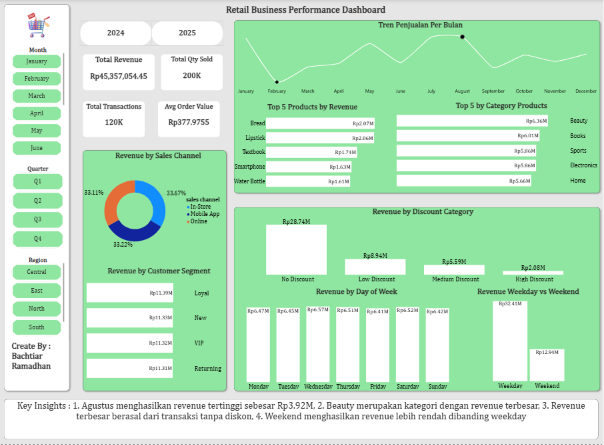

This screenshot's page, from the dashboard's own definition file:
{"tool":"powerbi","page":{"name":"Page 1","canvas":[5200,3800],"ordinal":0},"visuals":[{"type":"textbox","title":"Retail Business Performance Dashboard","box":[1231.1,45.9,2798.6,175.9],"z":0},{"type":"textbox","box":[53.5,45.9,558.2,3303.2],"z":1000},{"type":"advancedSlicerVisual","title":"Quarter","fields":{"Values":["retail_sales_clean.Quarter"]},"box":[107,1414.6,458.8,718.8],"z":2000},{"type":"advancedSlicerVisual","title":"Year","fields":{"Values":["retail_sales_clean.Year"]},"box":[672.9,183.5,1276.9,221.7],"z":3000},{"type":"advancedSlicerVisual","title":"Region","fields":{"Values":["retail_sales_clean.region"]},"box":[107,2194.5,458.8,688.2],"z":4000},{"type":"textbox","box":[2015,183.5,3127.4,1475.7],"z":5000},{"type":"lineChart","title":"Tren Penjualan Per-Tahun","fields":{"Category":["retail_sales_clean.Month_Name"],"Y":["Sum(retail_sales_clean.sales_amount)"]},"box":[2011,267.6,3127.4,558.2],"z":6000},{"type":"textbox","title":"Tren Penjualan Per Bulan","box":[2263.3,183.5,2691.5,107],"z":7000},{"type":"cardVisual","title":"Total Revenue","fields":{"Data":["Sum(retail_sales_clean.sales_amount)"]},"box":[726.4,474.1,611.7,305.9],"z":8000},{"type":"cardVisual","title":"Total Transactions","fields":{"Data":["retail_sales_clean.Total Transactions"]},"box":[726.4,871.7,527.6,305.9],"z":9000},{"type":"cardVisual","title":"Avg Order Value","fields":{"Data":["retail_sales_clean.Average Order Value"]},"box":[1368.7,871.7,527.6,305.9],"z":10000},{"type":"clusteredBarChart","title":"Revenue by Category Products","fields":{"Category":["retail_sales_clean.category"],"Y":["Sum(retail_sales_clean.sales_amount)"]},"box":[3402.6,925.2,1743.4,734.1],"z":11000},{"type":"textbox","title":"Top 5 by Category Products","box":[3647.3,871.7,1307.5,84.1],"z":12000},{"type":"clusteredBarChart","title":"Top 5 Products by Revenue","fields":{"Category":["retail_sales_clean.product_name"],"Y":["Sum(retail_sales_clean.sales_amount)"]},"box":[2011,948.1,1384,711.1],"z":13000},{"type":"textbox","title":"Top 5 Products by Revenue","box":[1674.6,879.3,2026.3,68.8],"z":14000},{"type":"textbox","box":[2015,1781.6,3127.4,1567.5],"z":15000},{"type":"clusteredColumnChart","title":"Revenue by Discount Level","fields":{"Category":["retail_sales_clean.Category_Discount"],"Y":["Sum(retail_sales_clean.sales_amount)"]},"box":[2018.6,1850.4,3112.1,565.8],"z":16000},{"type":"textbox","title":"Revenue by Discount Category ","box":[2790.9,1781.6,1674.6,130],"z":17000},{"type":"clusteredColumnChart","title":"Revenue Weekday vs Weekend","fields":{"Category":["retail_sales_clean.day_type"],"Y":["Sum(retail_sales_clean.sales_amount)"]},"box":[3937.9,2515.7,1192.8,818.2],"z":18000},{"type":"textbox","title":"Revenue Weekday vs Weekend","box":[3861.4,2462.1,1338.1,145.3],"z":19000},{"type":"clusteredColumnChart","title":"Revenue by Day of Week","fields":{"Category":["retail_sales_clean.Day_Name"],"Y":["Sum(retail_sales_clean.sales_amount)"]},"box":[2018.6,2553.9,1949.8,779.9],"z":20000},{"type":"textbox","title":"Revenue by Day of Week","box":[2263.3,2462.1,1598.1,145.3],"z":21000},{"type":"advancedSlicerVisual","title":"Month","fields":{"Values":["retail_sales_clean.Month_Name"]},"box":[107,405.3,458.8,948.1],"z":22000},{"type":"textbox","box":[726.4,1292.2,1223.4,2056.9],"z":23000},{"type":"donutChart","title":"Revenue by Customer Segment","fields":{"Category":["retail_sales_clean.sales_channel"],"Y":["Sum(retail_sales_clean.sales_amount)"]},"box":[726.4,1418.6,1222.1,777.7],"z":24000},{"type":"textbox","title":"Revenue by Sales Channel","box":[726.4,1299.9,1284.6,221.7],"z":25000},{"type":"textbox","title":"Revenue by Customer Segment","box":[734.9,2280,1281.9,162.4],"z":26000},{"type":"clusteredBarChart","title":"Revenue by Day of Week","fields":{"Category":["retail_sales_clean.customer_segment"],"Y":["Sum(retail_sales_clean.sales_amount)"]},"box":[754,2324.5,1162.2,1009.3],"z":27000},{"type":"cardVisual","title":"Total Revenue","fields":{"Data":["Sum(retail_sales_clean.discount_pct)"]},"box":[107,61.2,382.3,321.1],"z":28000},{"type":"cardVisual","title":"Total Qty Sold","fields":{"Data":["retail_sales_clean.Total Qty Sold"]},"box":[1391.6,474.1,527.6,305.9],"z":28001},{"type":"textbox","title":"Key Insights  : 1. Agustus menghasilkan revenue tertinggi sebesar Rp3.92M, 2. Beauty merupakan kategori dengan revenue terbesar, 3. Revenue terbesar berasal dari transaksi tanpa diskon, 4. Weekend men","box":[52.6,3420.6,5078.3,342.1],"z":28002},{"type":"textbox","title":"Create By : Bachtiar Ramadhan","box":[111.1,2922.7,495.7,410.2],"z":28003}]}

Visuals, with their boxes in screenshot pixels (x1, y1, x2, y2), scaled from the page's 5200x3800 canvas onto the 604x445 screenshot:
"Retail Business Performance Dashboard" textbox: 143/5/468/26
textbox: 6/5/71/392
"Quarter" advancedSlicerVisual: 12/166/66/250
"Year" advancedSlicerVisual: 78/21/226/47
"Region" advancedSlicerVisual: 12/257/66/338
textbox: 234/21/597/194
"Tren Penjualan Per-Tahun" lineChart: 234/31/597/97
"Tren Penjualan Per Bulan" textbox: 263/21/576/34
"Total Revenue" cardVisual: 84/56/155/91
"Total Transactions" cardVisual: 84/102/146/138
"Avg Order Value" cardVisual: 159/102/220/138
"Revenue by Category Products" clusteredBarChart: 395/108/598/194
"Top 5 by Category Products" textbox: 424/102/576/112
"Top 5 Products by Revenue" clusteredBarChart: 234/111/394/194
"Top 5 Products by Revenue" textbox: 195/103/430/111
textbox: 234/209/597/392
"Revenue by Discount Level" clusteredColumnChart: 234/217/596/283
"Revenue by Discount Category " textbox: 324/209/519/224
"Revenue Weekday vs Weekend" clusteredColumnChart: 457/295/596/390
"Revenue Weekday vs Weekend" textbox: 449/288/603/305
"Revenue by Day of Week" clusteredColumnChart: 234/299/461/390
"Revenue by Day of Week" textbox: 263/288/449/305
"Month" advancedSlicerVisual: 12/47/66/158
textbox: 84/151/226/392
"Revenue by Customer Segment" donutChart: 84/166/226/257
"Revenue by Sales Channel" textbox: 84/152/234/178
"Revenue by Customer Segment" textbox: 85/267/234/286
"Revenue by Day of Week" clusteredBarChart: 88/272/223/390
"Total Revenue" cardVisual: 12/7/57/45
"Total Qty Sold" cardVisual: 162/56/223/91
"Key Insights  : 1. Agustus menghasilkan revenue tertinggi sebesar Rp3.92M, 2. Beauty merupakan kategori dengan revenue terbesar, 3. Revenue terbesar berasal dari transaksi tanpa diskon, 4. Weekend men" textbox: 6/401/596/441
"Create By : Bachtiar Ramadhan" textbox: 13/342/70/390
